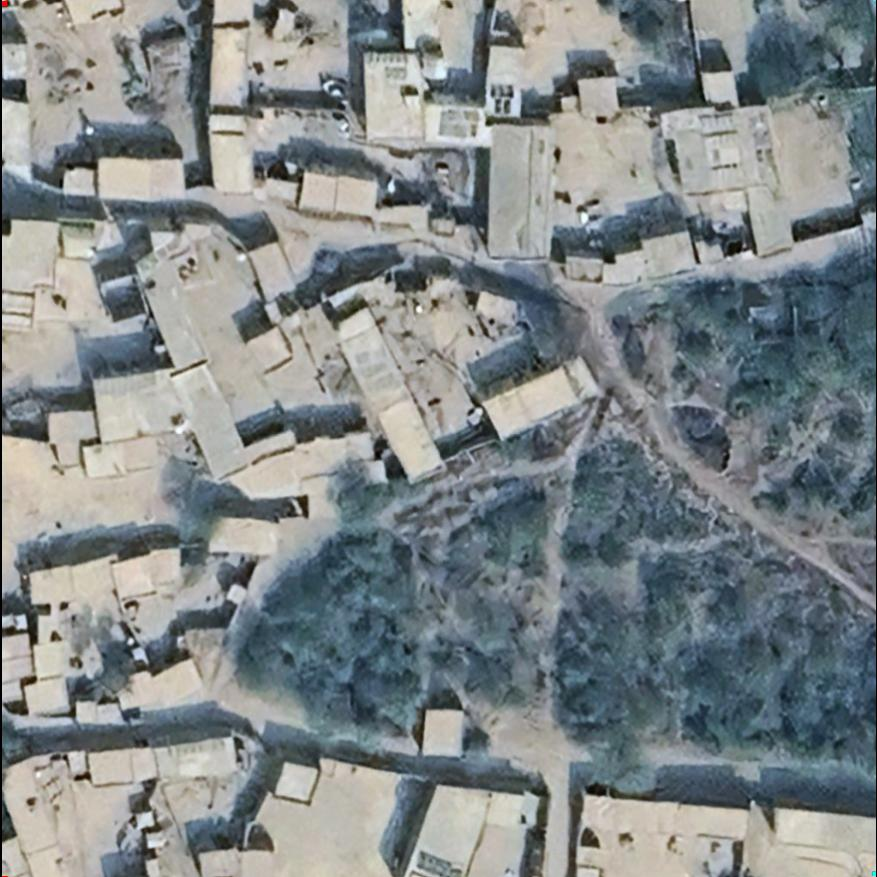Solarpanel: (362, 49, 409, 85), (416, 846, 455, 876), (486, 81, 515, 117)
